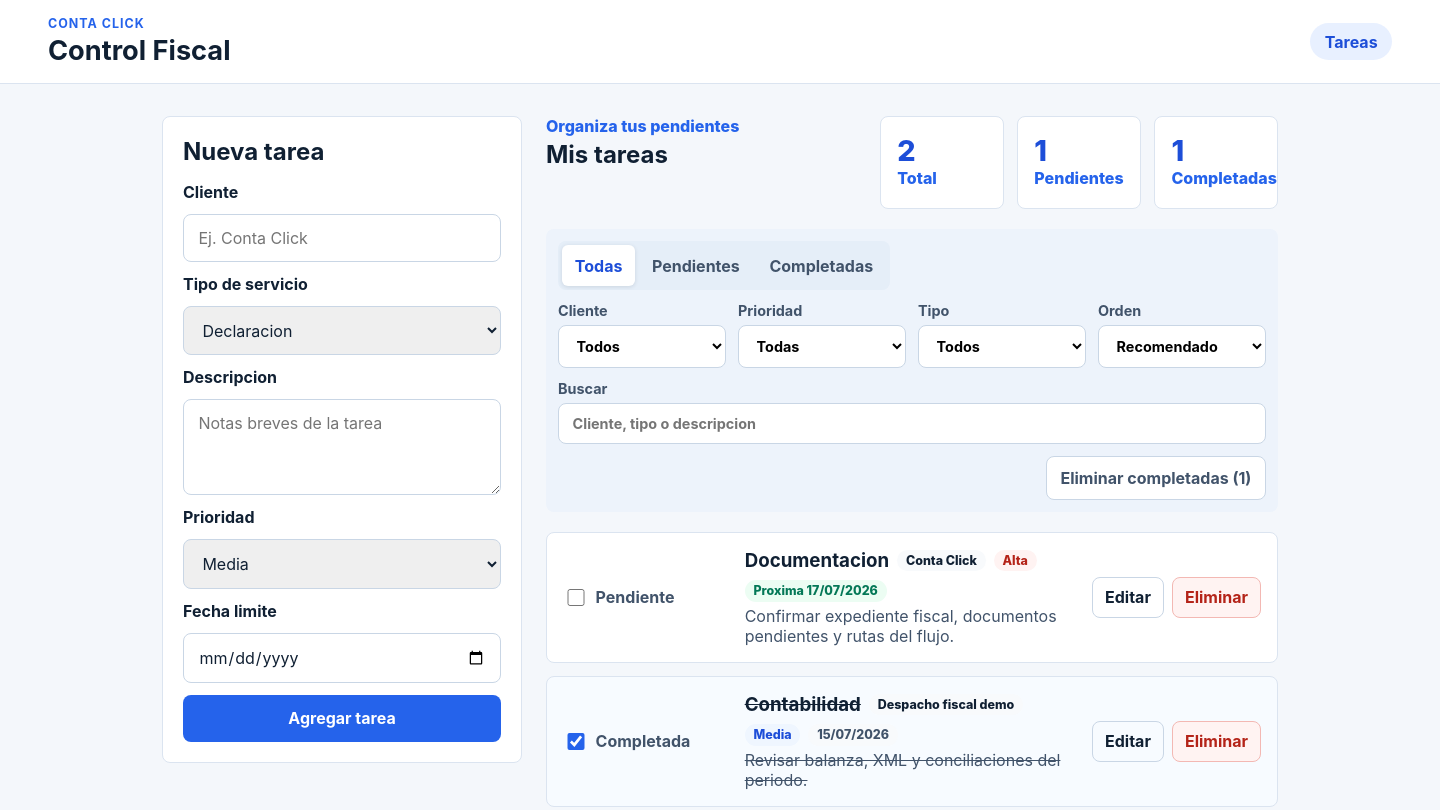
Test case: App › permite volver a todas las tareas desde el estado vacio
Type "sin resultados" into the search field with id "search".
click(912, 423); type("sin resultados")  # box 558,402 -> 1266,444
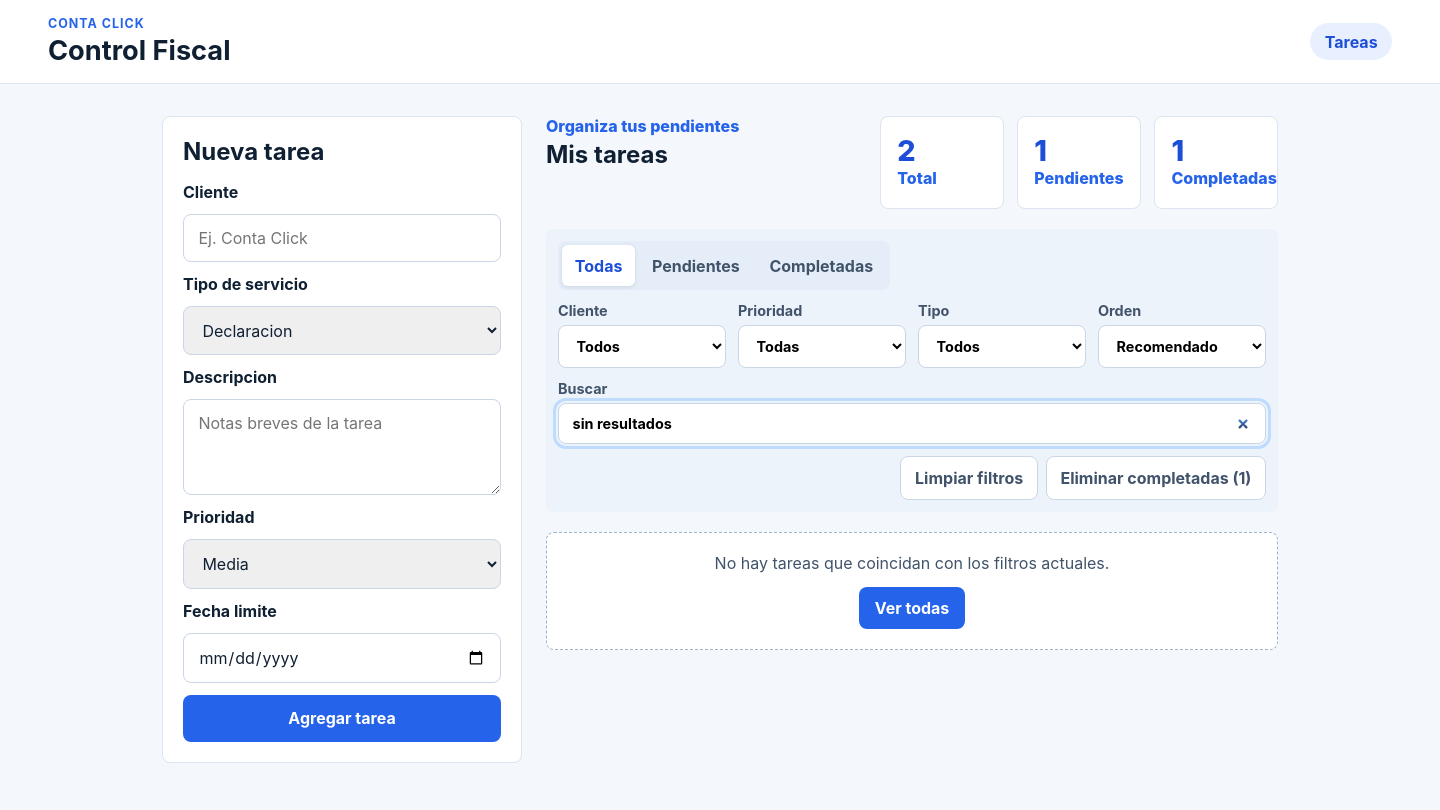
Check: the text "No hay tareas que coincidan con los filtros actuales." is shown, box 715,553 -> 1109,573
Click the button "Ver todas".
click(912, 608)  # box 860,587 -> 964,629
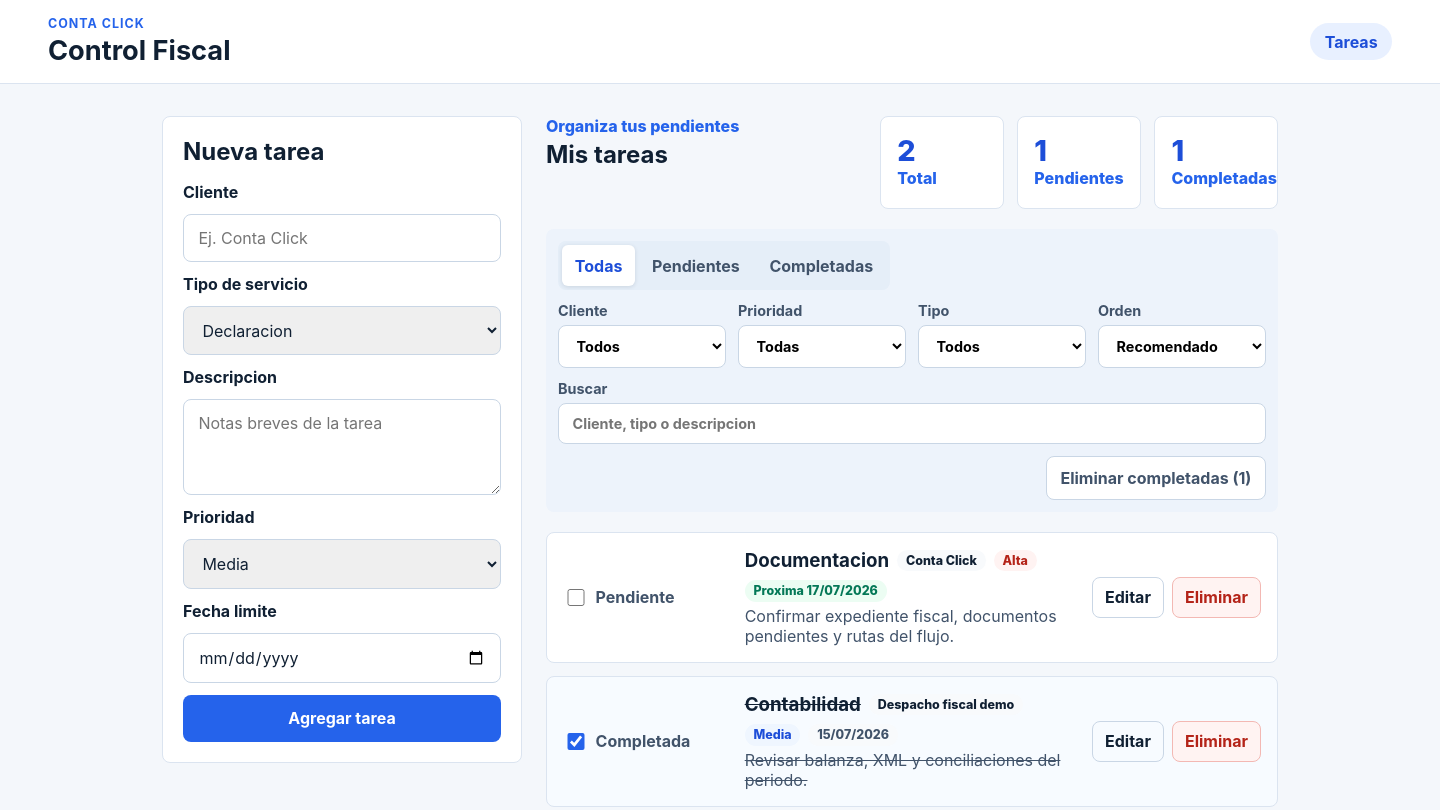
Check: the text "Confirmar expediente fiscal" is shown, box 745,606 -> 1057,646
Check: the text "Revisar balanza, XML y conciliaciones del periodo." is shown, box 745,750 -> 1076,790
